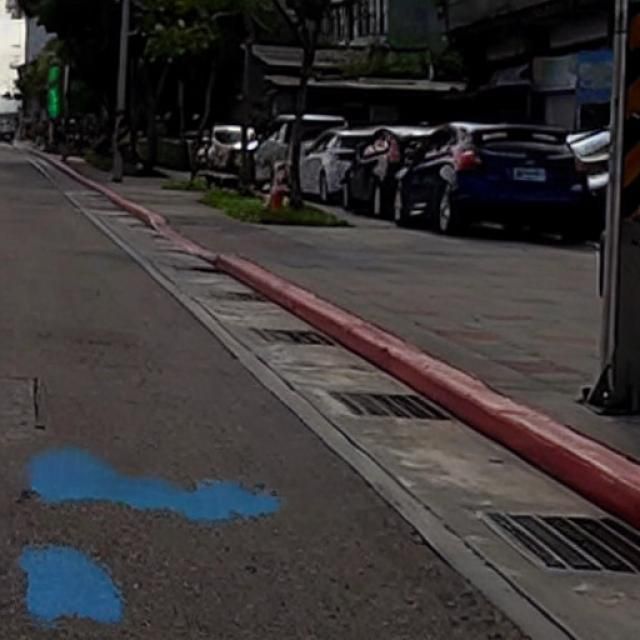puddle: (18, 448, 282, 634)
